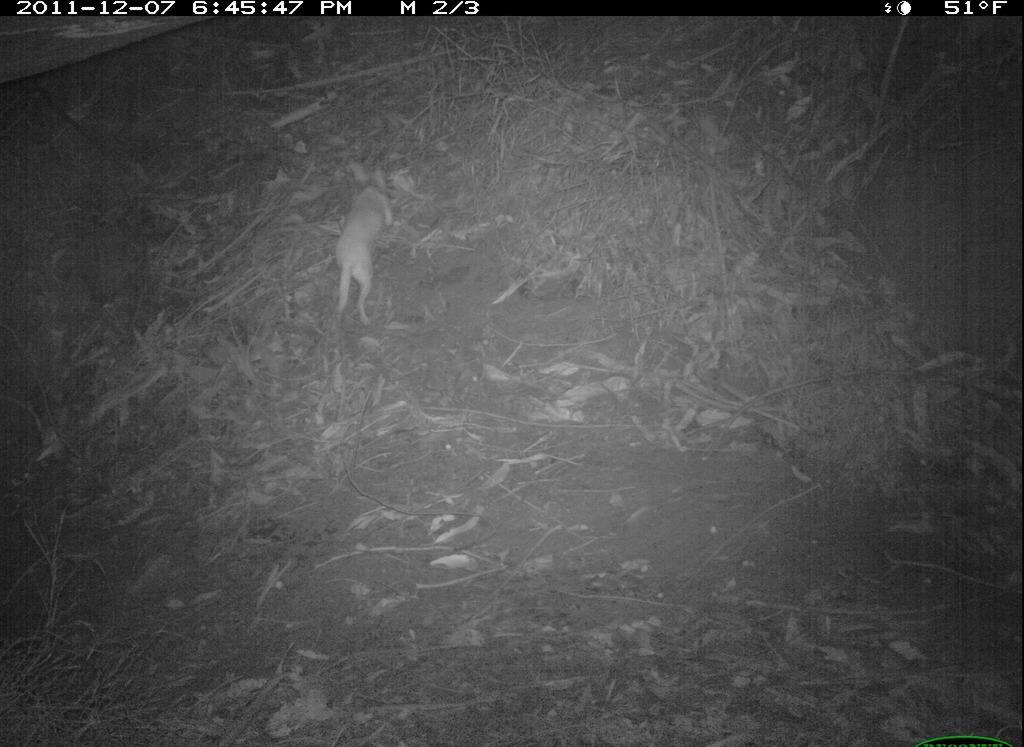dog: (334, 159, 398, 332)
